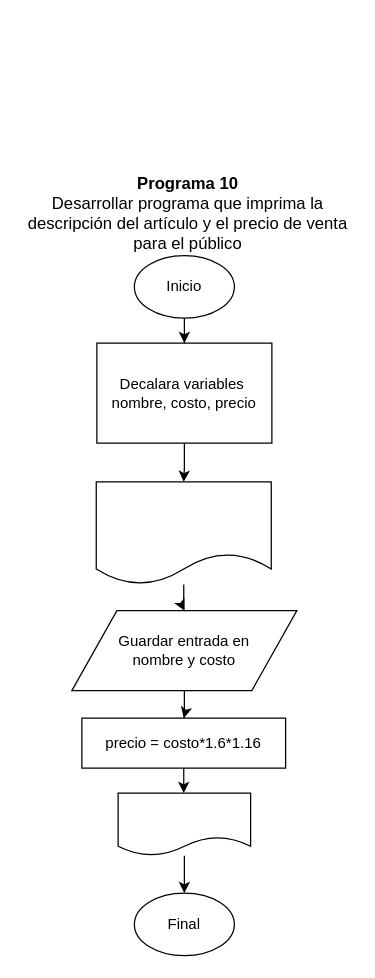
Some shapes in this 375 by 978 pixel diagram are drawn without their labels. The box of each missing label's shape, as (x1, y1, x2, y2) in pixels:
"Ingresar nombre y costo del articulo": (95, 481, 271, 584)
nombre, precio: (117, 792, 251, 856)
